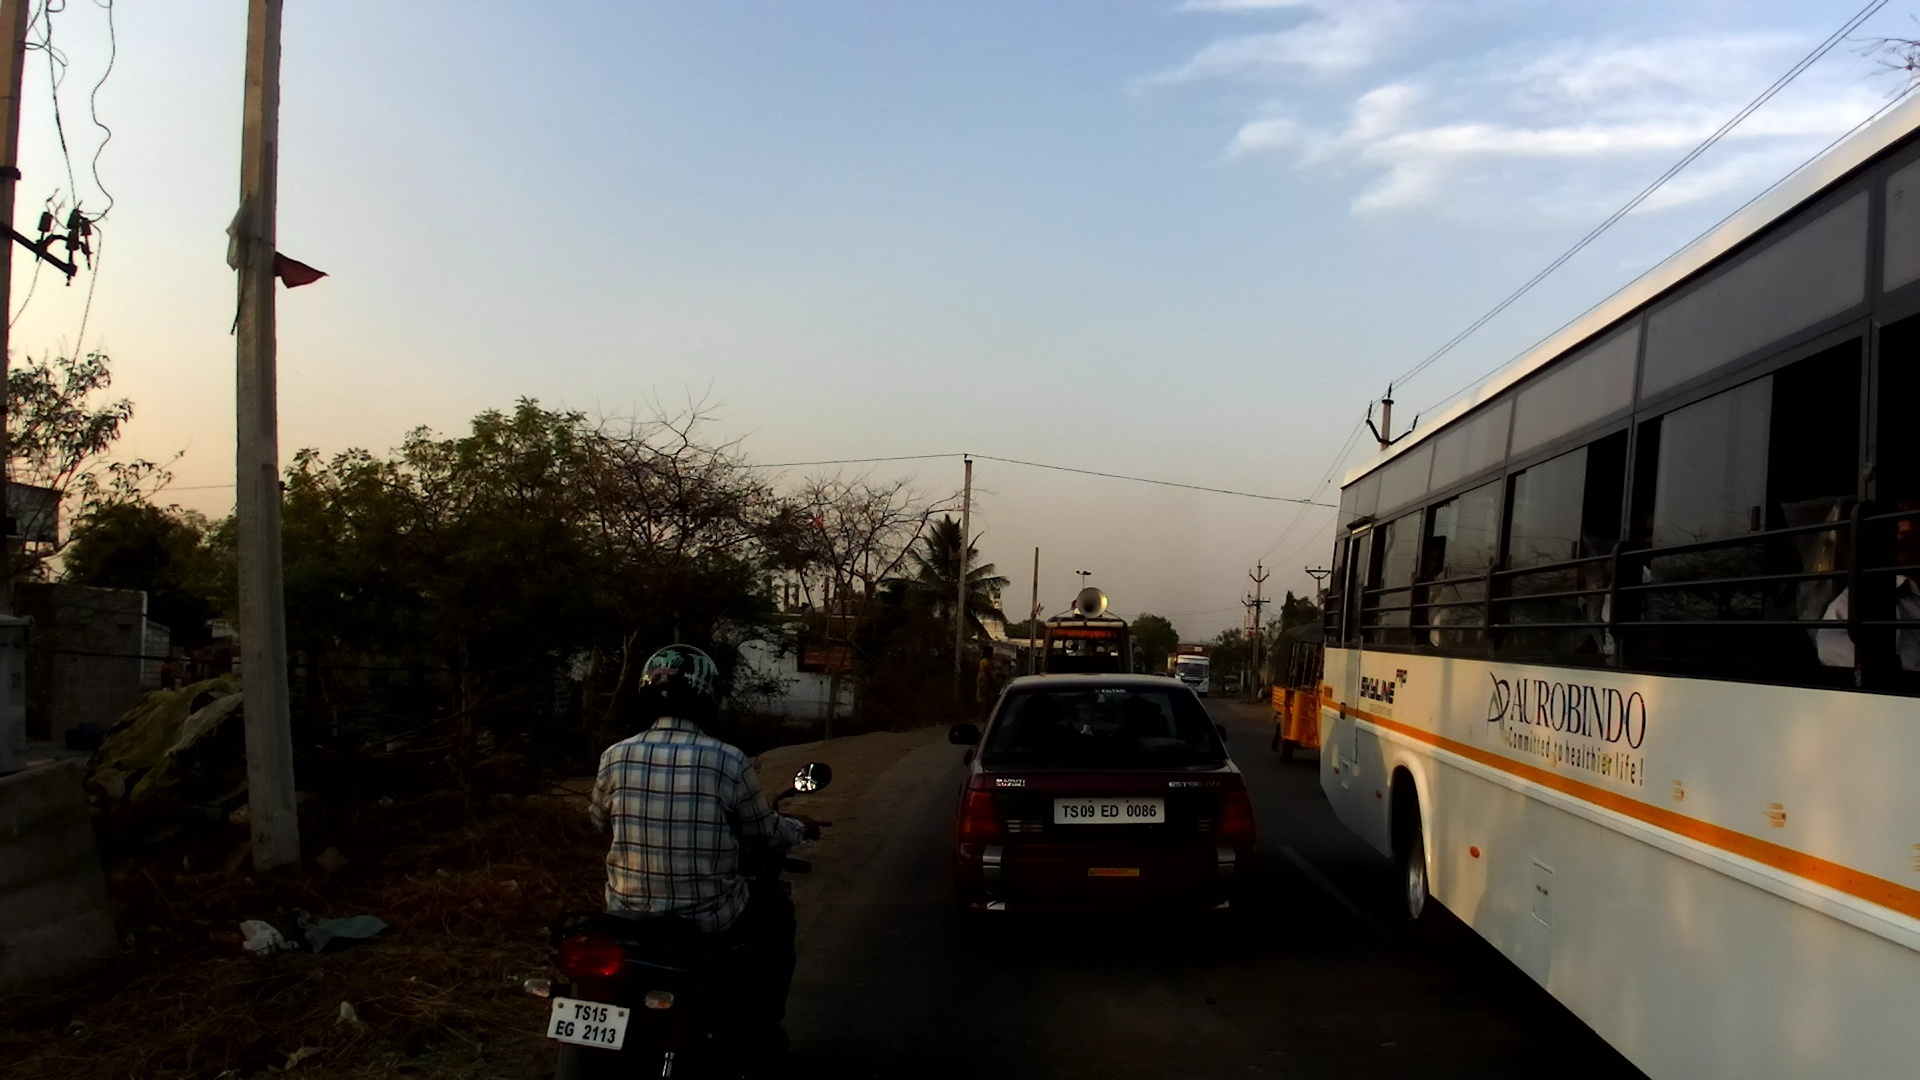autorickshaw: (1272, 621, 1325, 768)
bus: (1323, 91, 1920, 927), (1174, 653, 1210, 697)
car: (949, 671, 1254, 952), (1039, 585, 1141, 676), (1219, 672, 1242, 694)
motorcycle: (520, 759, 833, 1080)
person: (976, 644, 1006, 717)
rider: (584, 638, 817, 1072)
truck: (1169, 644, 1213, 673)
